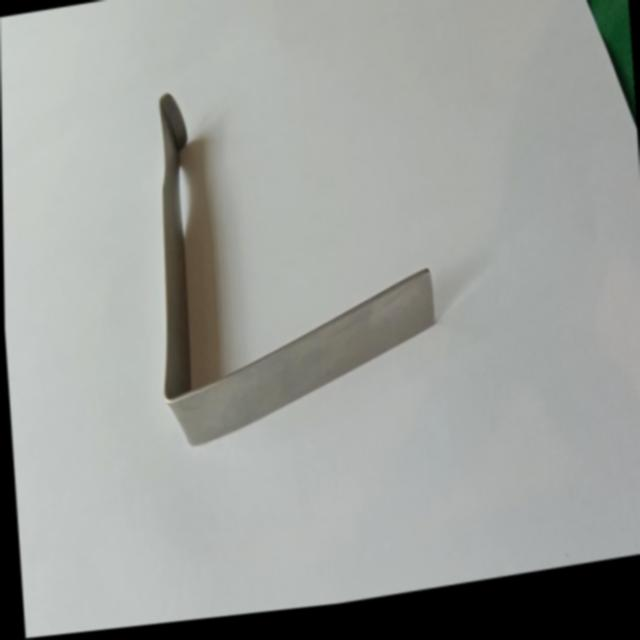AustinRetractor: (140, 45, 447, 470)
